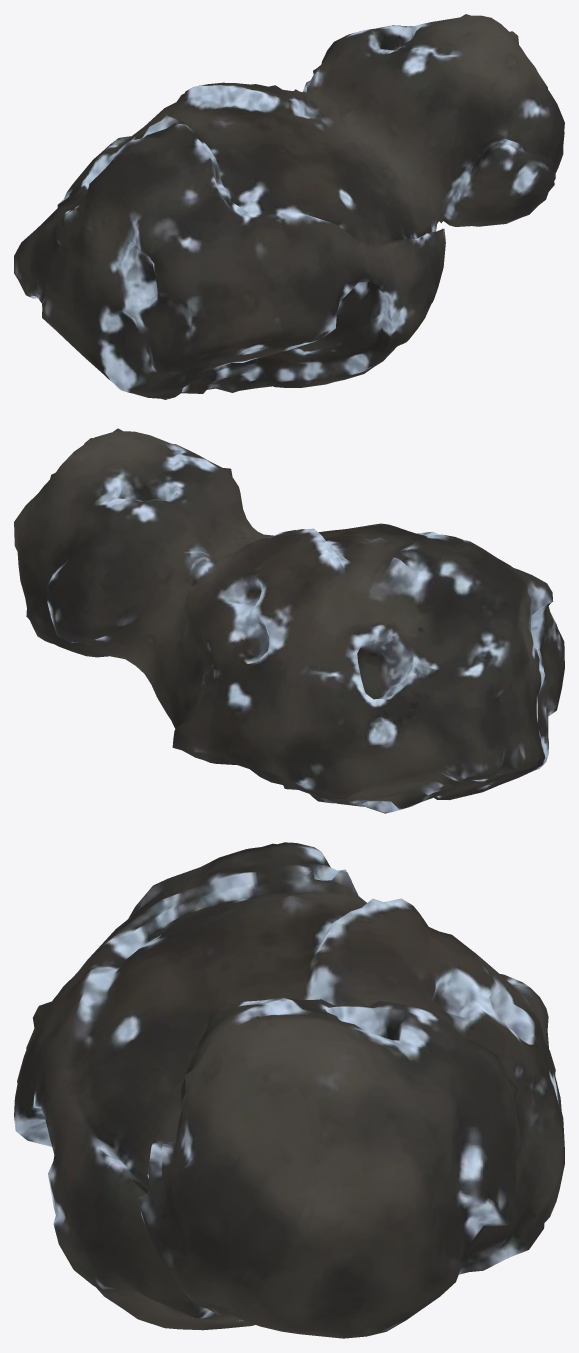
File: comet_head.glb
3 renders of one model, top to bottom at view 1: azimuth 30°, elevation 25°; view 2: azimuth 150°, elevation 25°; view 3: azimuth 270°, elevation 25°, orthographic. The views are drawn at different scales.
Parts seen in each view (by area): view 1: CometHead; view 2: CometHead; view 3: CometHead.
Part boxes in pixels (x1,y1,x2,y2): CometHead: (14, 14, 564, 399); CometHead: (14, 428, 564, 813); CometHead: (14, 842, 564, 1338).
Bounding box in the file's own units: 1.9 × 1.1 × 1.23.
1 material, 1 textured.
